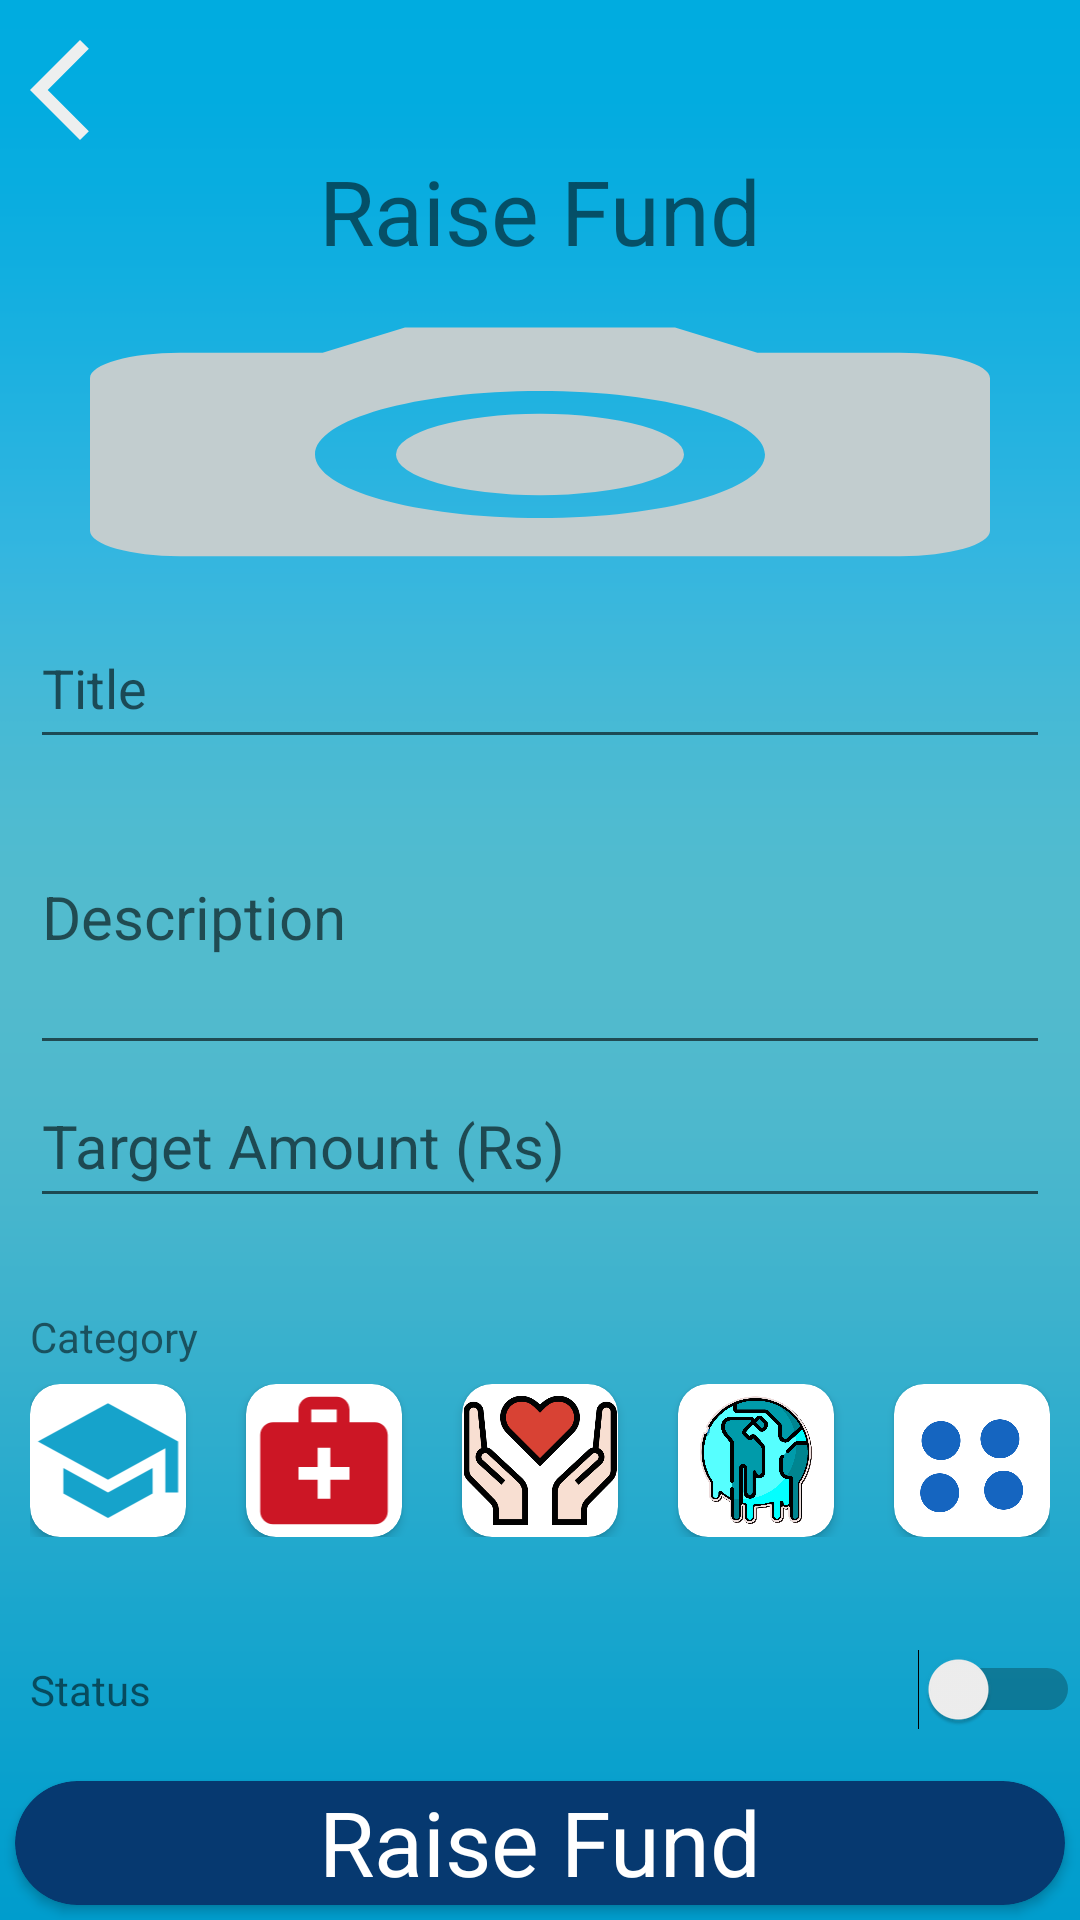

Locate icon controls on the screen. Image size 1080 × 1920, boxes as (x1, y1, x2, y2).
arrow back: (30, 40, 89, 140)
climate: (678, 1384, 834, 1537)
humanity: (462, 1384, 618, 1537)
medical services: (246, 1384, 402, 1537)
other: (894, 1384, 1050, 1537)
school: (30, 1384, 186, 1537)
